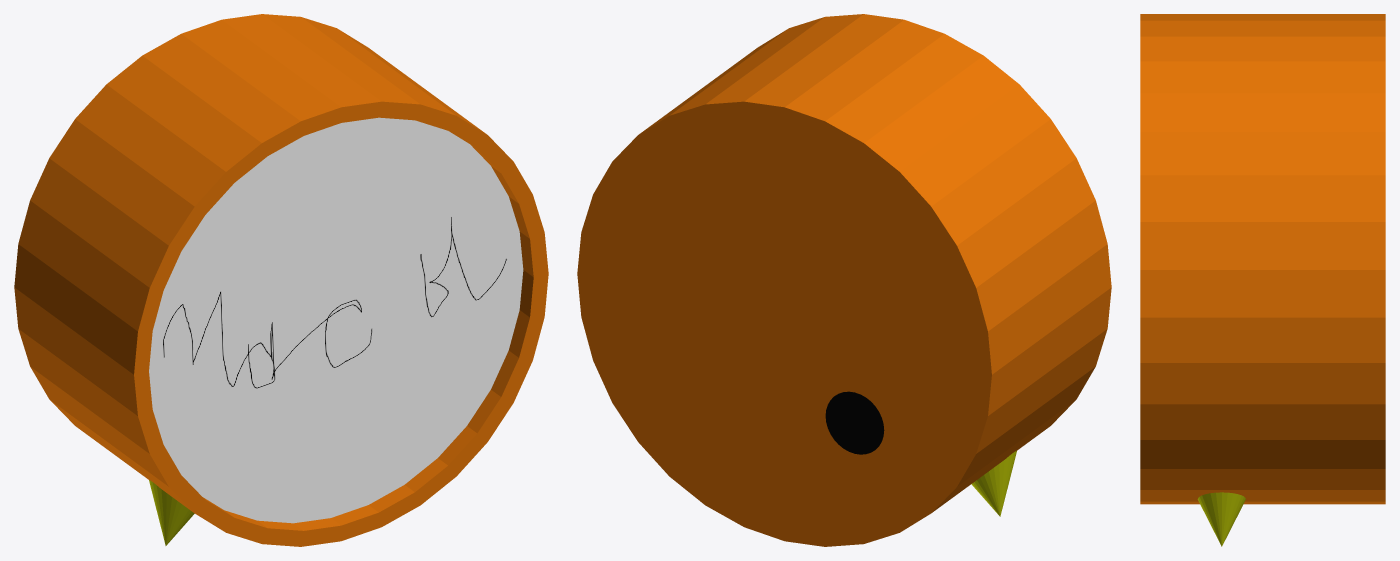
Rendered from chasu.fbx.
3 views of the same model, side by side, from view 1: azimuth 30°, elevation 25°; view 2: azimuth 150°, elevation 25°; view 3: azimuth 270°, elevation 25° (orthographic). The views are drawn at different scales.
Visible parts, largest first — view 1: Circle; view 2: Circle; view 3: Circle.
Part boxes in pixels (bbox=[...]): Circle: bbox=[14, 14, 548, 546]; Circle: bbox=[577, 14, 1111, 546]; Circle: bbox=[1140, 14, 1385, 546].
Size of the model in its own units: 200 by 201 by 100.
5 materials, 1 textured.
